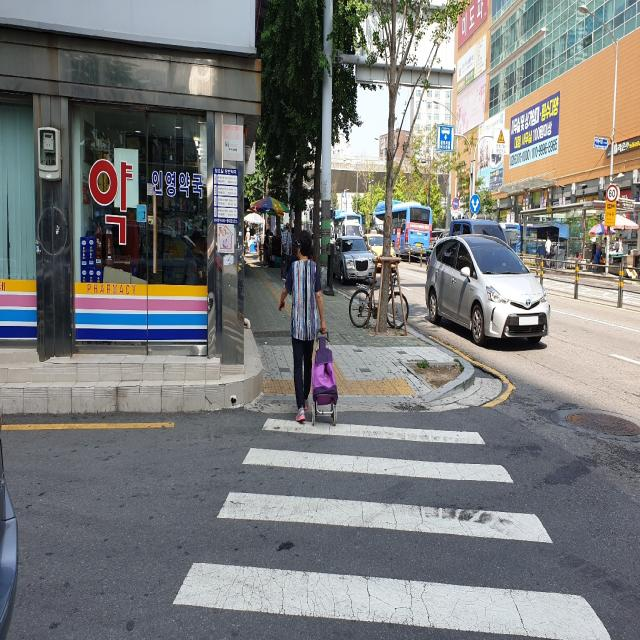횡단보도: (169, 412, 615, 640)
